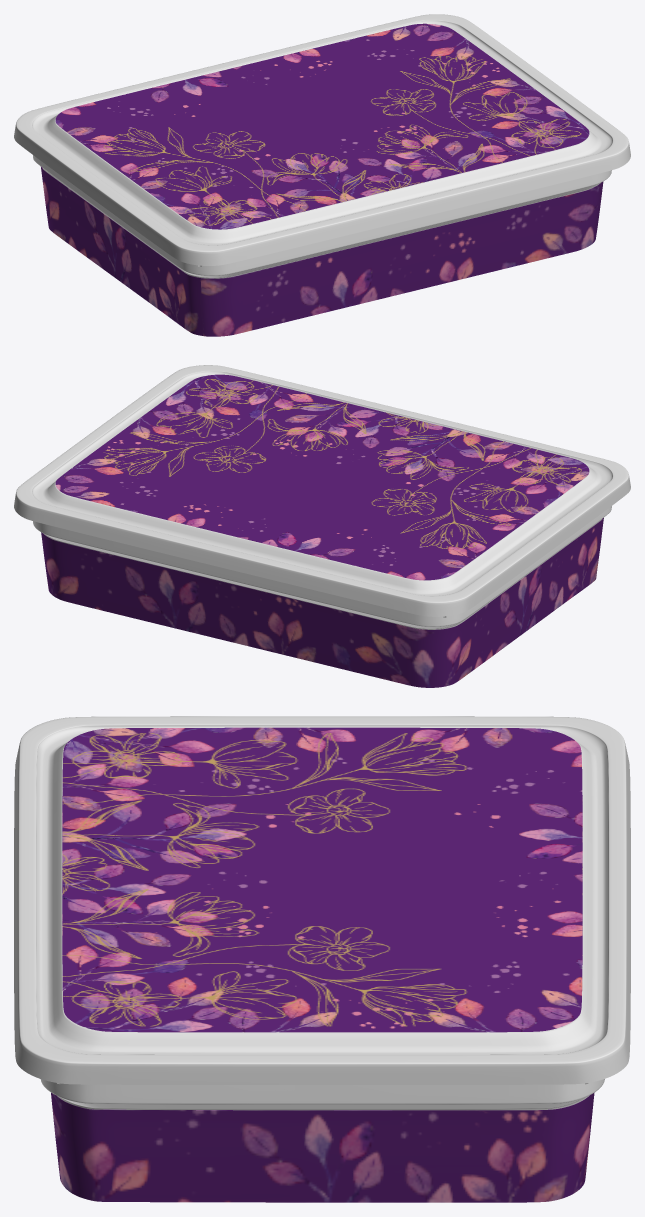
Rendered from 500ml sweet box(new) 5 (1).glb.
The picture shows the model from 3 angles, top to bottom: view 1: azimuth 30°, elevation 25°; view 2: azimuth 150°, elevation 25°; view 3: azimuth 270°, elevation 25°; orthographic projection. The views are drawn at different scales.
Parts seen in each view (by area): view 1: top label, bottom label, Plane.003, new model; view 2: top label, bottom label, Plane.003, new model; view 3: top label, Plane.003, bottom label, new model.
Part boxes in pixels (bbox=[...]): top label: bbox=[55, 23, 589, 229]; bottom label: bbox=[41, 167, 603, 336]; Plane.003: bbox=[14, 14, 630, 265]; new model: bbox=[33, 155, 611, 278]; top label: bbox=[55, 374, 589, 580]; bottom label: bbox=[41, 518, 603, 687]; Plane.003: bbox=[14, 365, 630, 616]; new model: bbox=[33, 506, 611, 629]; top label: bbox=[62, 727, 582, 1032]; Plane.003: bbox=[14, 716, 630, 1084]; bottom label: bbox=[51, 1093, 594, 1202]; new model: bbox=[40, 1079, 604, 1110].
Size of the model in its own units: 0.1993 by 0.0444 by 0.1489.
Materials: 7 (3 with a texture image).
